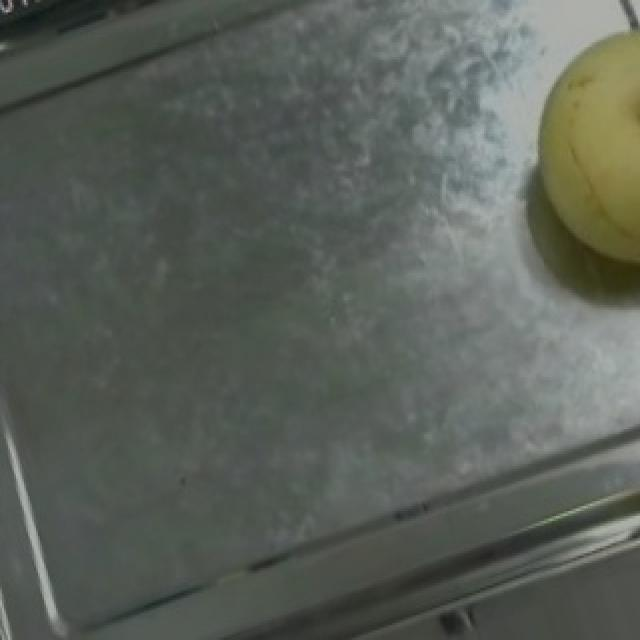Fruit: (496, 2, 640, 298)
